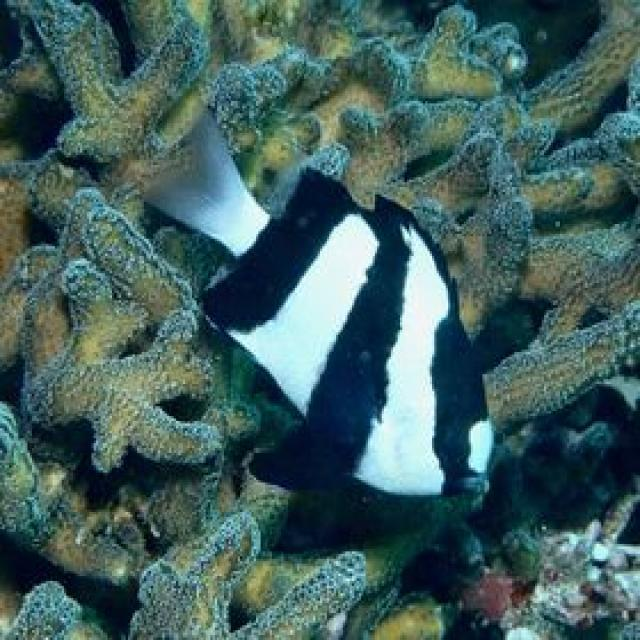Three_striped DasmselFish: (152, 114, 492, 503)
